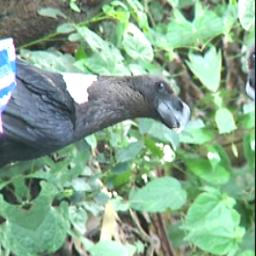Crow: (0, 1, 195, 185)
